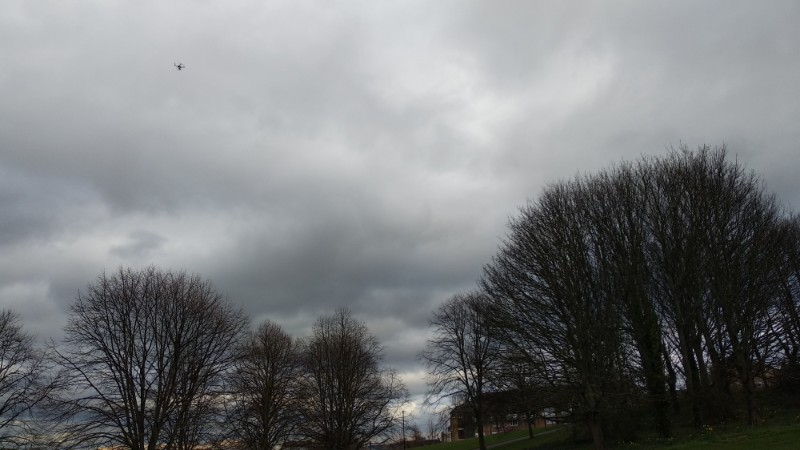drone: (172, 61, 187, 70)
